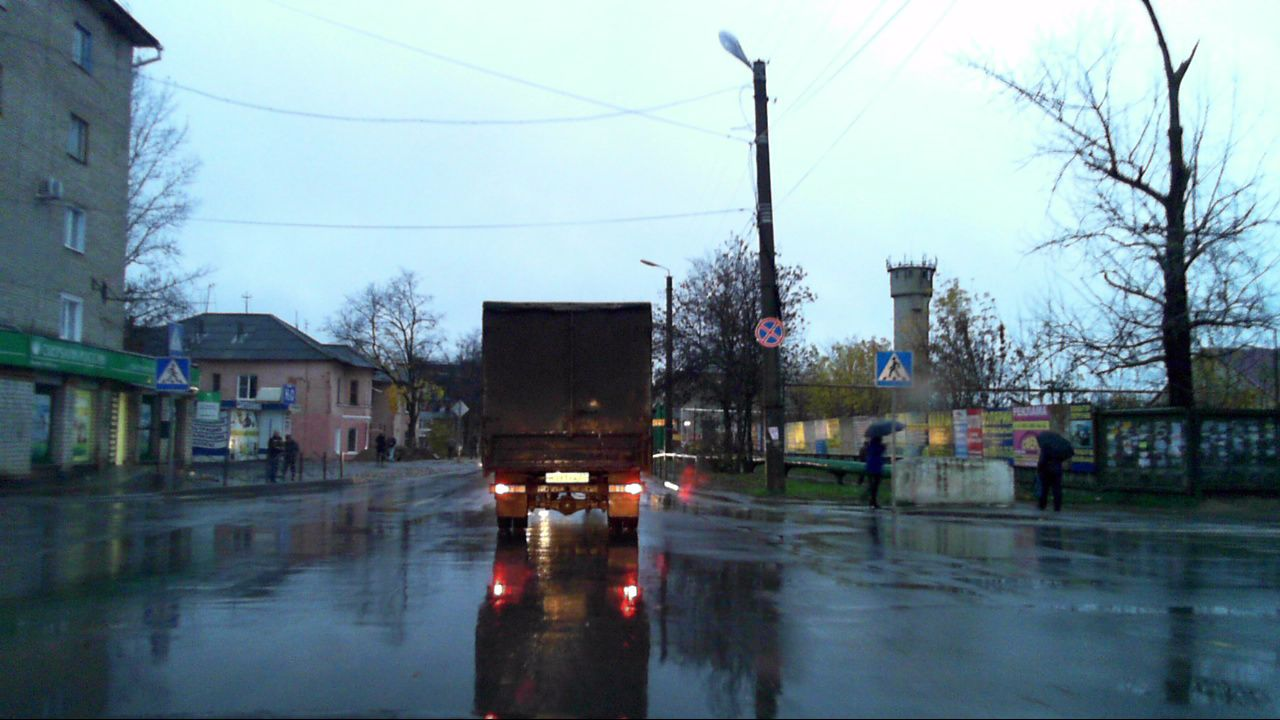No Parking: (755, 317, 785, 347)
